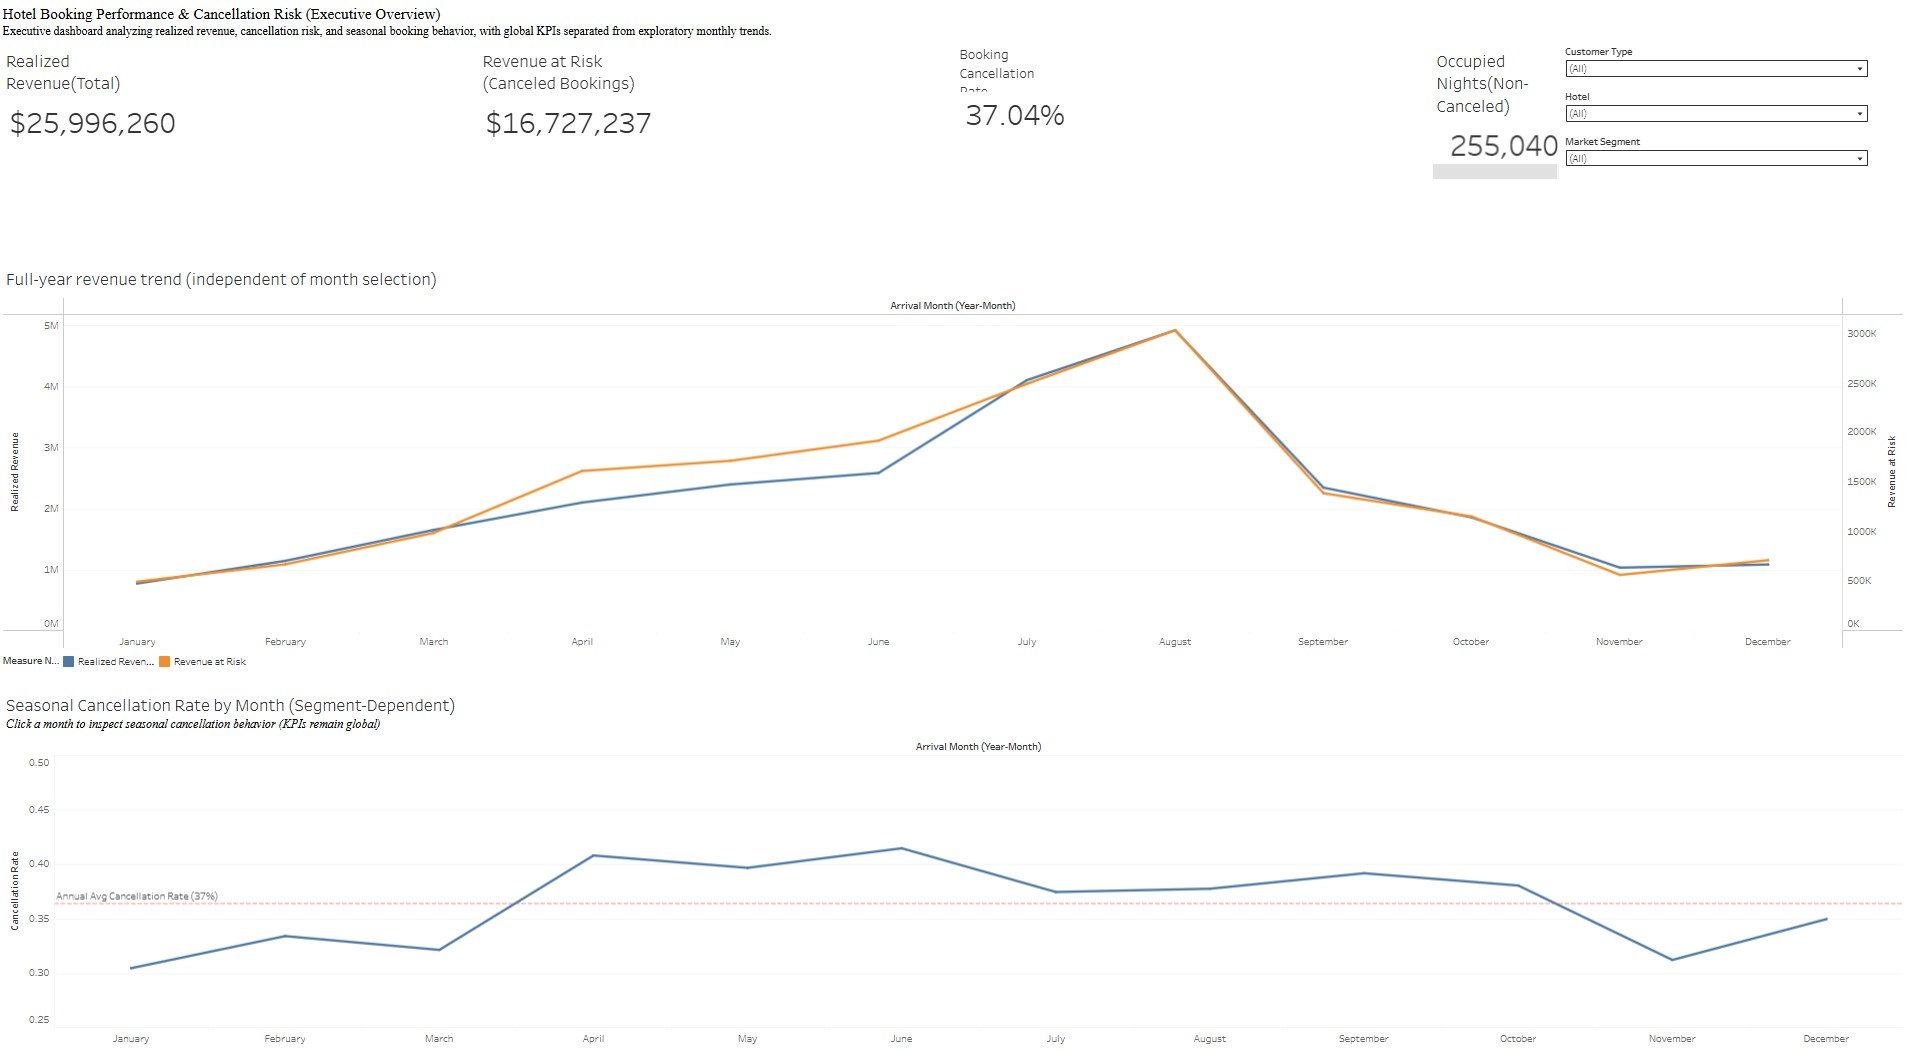

What the dashboard file says about the page in this screenshot:
{"tool":"tableau","page":{"name":"Hotel Booking Performance & Cancellation Risk (Executive Overview)","canvas":[1000,1000],"units":"permille","ordinal":0},"visuals":[{"type":"title","box":[4.8,10,990.5,63.6]},{"type":"worksheet","title":"Realized Revenue(Total) ","mark":"Automatic","box":[4.8,73.6,247.6,201.1]},{"type":"worksheet","title":"Revenue at Risk (Canceled Bookings)","mark":"Automatic","box":[252.3,73.6,247.6,201.1]},{"type":"worksheet","title":"Booking Cancellation Rate","mark":"Automatic","box":[499.9,73.6,247.6,201.1]},{"type":"worksheet","title":"Occupied Nights(Non-Canceled)","mark":"Automatic","box":[747.6,73.6,98,201.1]},{"type":"filter","title":"Full-year revenue trend (independent of month selection)","param":"[federated.0galf060sz38gt0zz2l2z1nstfvs].[none:customer_type:nk]","box":[845.6,73.6,149.6,64.8]},{"type":"filter","title":"Full-year revenue trend (independent of month selection)","param":"[federated.0galf060sz38gt0zz2l2z1nstfvs].[none:hotel:nk]","box":[845.6,138.4,149.6,64.8]},{"type":"filter","title":"Full-year revenue trend (independent of month selection)","param":"[federated.0galf060sz38gt0zz2l2z1nstfvs].[none:market_segment:nk]","box":[845.6,203.3,149.6,64.8]},{"type":"worksheet","title":"Full-year revenue trend (independent of month selection)","mark":"Line","rows":["Calculation_2634454752333826","Calculation_2634454752432131"],"cols":["Calculation_2634455338008583"],"box":[4.8,274.7,990.5,354.1]},{"type":"legend","title":"Full-year revenue trend (independent of month selection)","param":"[federated.0galf060sz38gt0zz2l2z1nstfvs].[:Measure Names]","box":[4.8,628.8,990.5,34.1]},{"type":"worksheet","title":"Seasonal Cancellation Rate by Month (Segment-Dependent)","mark":"Automatic","rows":["Calculation_2634455225229318"],"cols":["Calculation_2634455338008583"],"box":[4.8,662.9,990.5,327.1]}]}

Visuals, with their boxes on the dashboard's canvas, which has no fixed pixel size, in thousandths of its width and height (x1, y1, x2, y2). These are canvas units, not pixel positions in the 1909x1051 screenshot, which may show the page scaled, cropped or inside an application window:
title: [5, 10, 995, 74]
"Realized Revenue(Total) " worksheet: [5, 74, 252, 275]
"Revenue at Risk (Canceled Bookings)" worksheet: [252, 74, 500, 275]
"Booking Cancellation Rate" worksheet: [500, 74, 748, 275]
"Occupied Nights(Non-Canceled)" worksheet: [748, 74, 846, 275]
"Full-year revenue trend (independent of month selection)" filter: [846, 74, 995, 138]
"Full-year revenue trend (independent of month selection)" filter: [846, 138, 995, 203]
"Full-year revenue trend (independent of month selection)" filter: [846, 203, 995, 268]
"Full-year revenue trend (independent of month selection)" worksheet (Line marks): [5, 275, 995, 629]
"Full-year revenue trend (independent of month selection)" legend: [5, 629, 995, 663]
"Seasonal Cancellation Rate by Month (Segment-Dependent)" worksheet: [5, 663, 995, 990]
